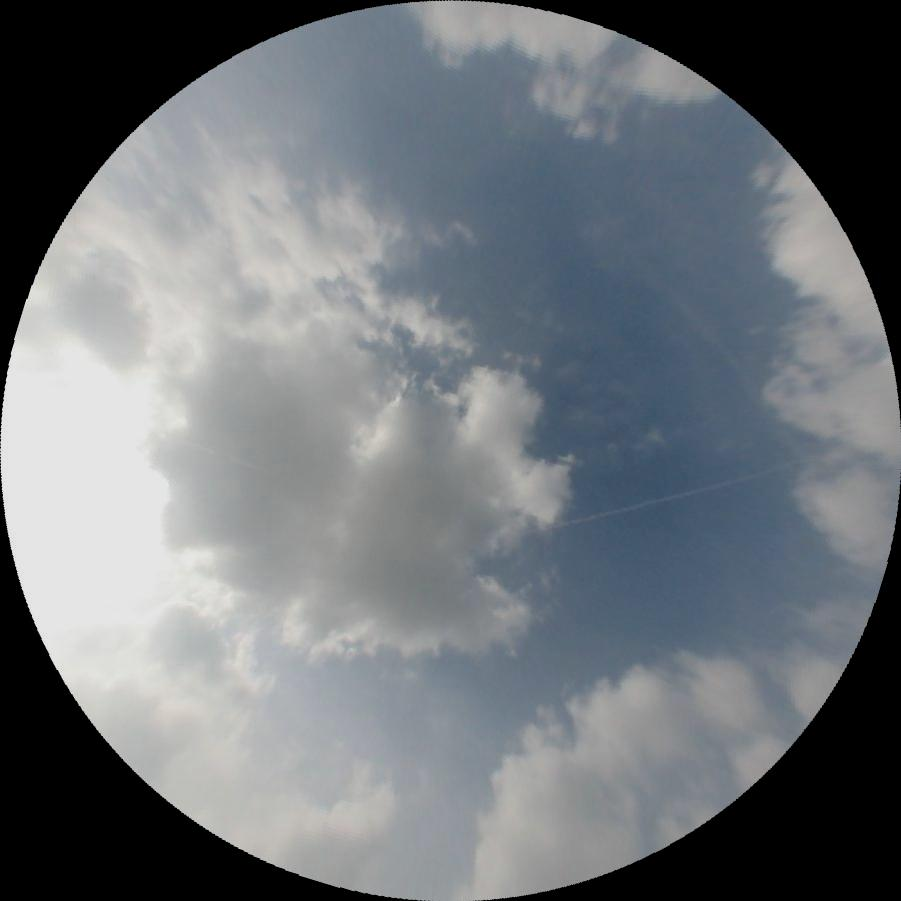contrail old: (548, 457, 803, 532)
sun: (0, 330, 200, 651)
